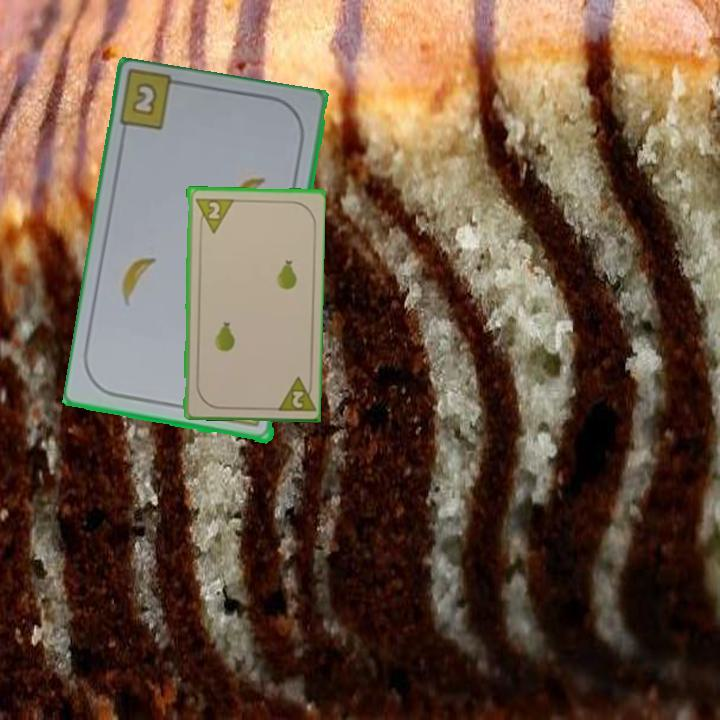2b: (131, 82, 158, 116)
2p: (271, 372, 316, 414), (191, 194, 234, 235)
